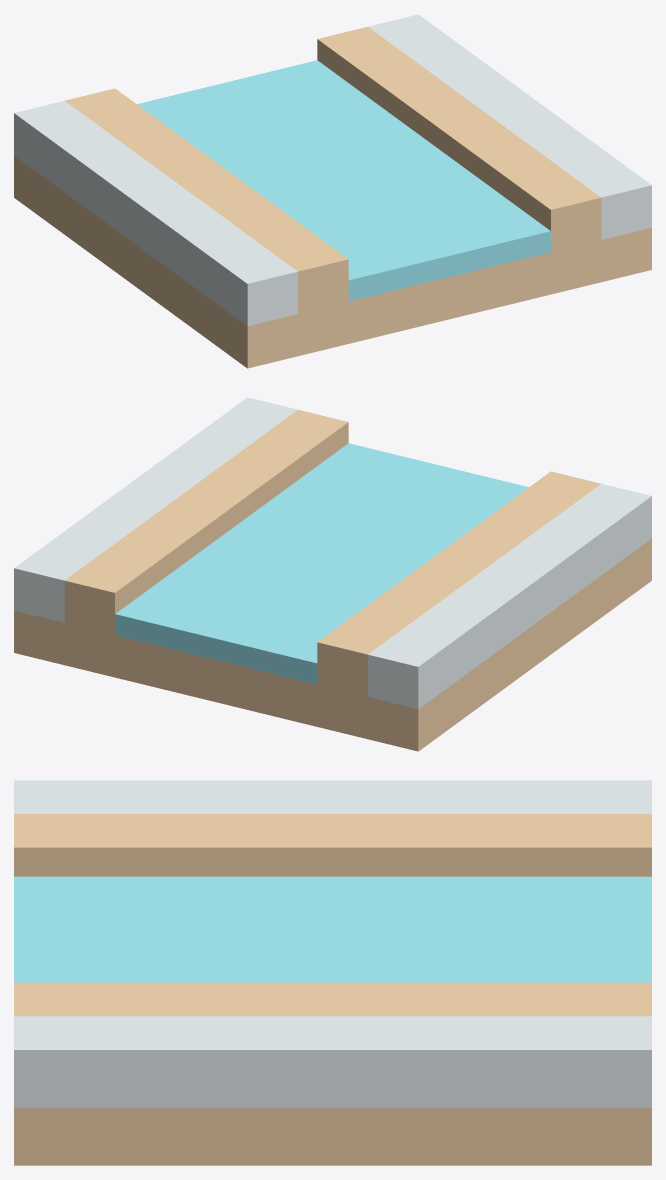
Rendered from snow_tile_riverStraight.glb.
3 views of the same model, one above another, from view 1: azimuth 30°, elevation 25°; view 2: azimuth 150°, elevation 25°; view 3: azimuth 270°, elevation 25° (orthographic). The views are drawn at different scales.
Visible parts, largest first — view 1: snow_tile_riverStraight; view 2: snow_tile_riverStraight; view 3: snow_tile_riverStraight.
Part boxes in pixels (box(x1,y1,x2,y2)): snow_tile_riverStraight: box(14, 14, 651, 368); snow_tile_riverStraight: box(14, 397, 651, 751); snow_tile_riverStraight: box(14, 780, 651, 1165).
Bounding box in the file's own units: 1 × 0.2 × 1.
